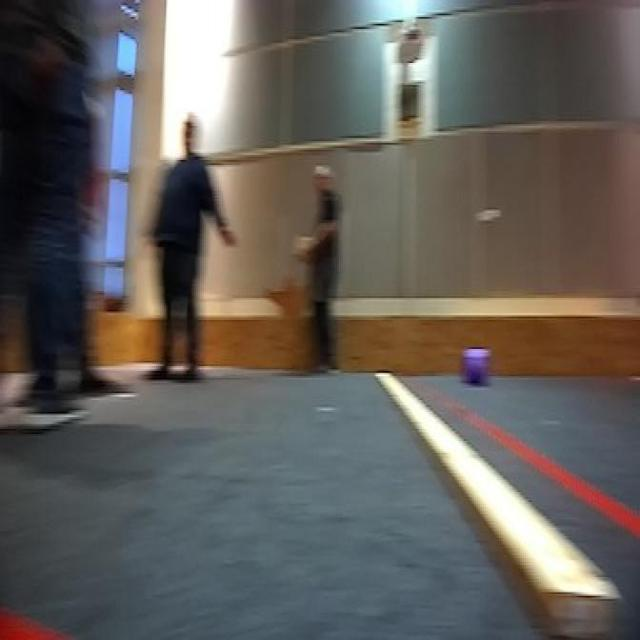frc_cube: (461, 347, 491, 392)
